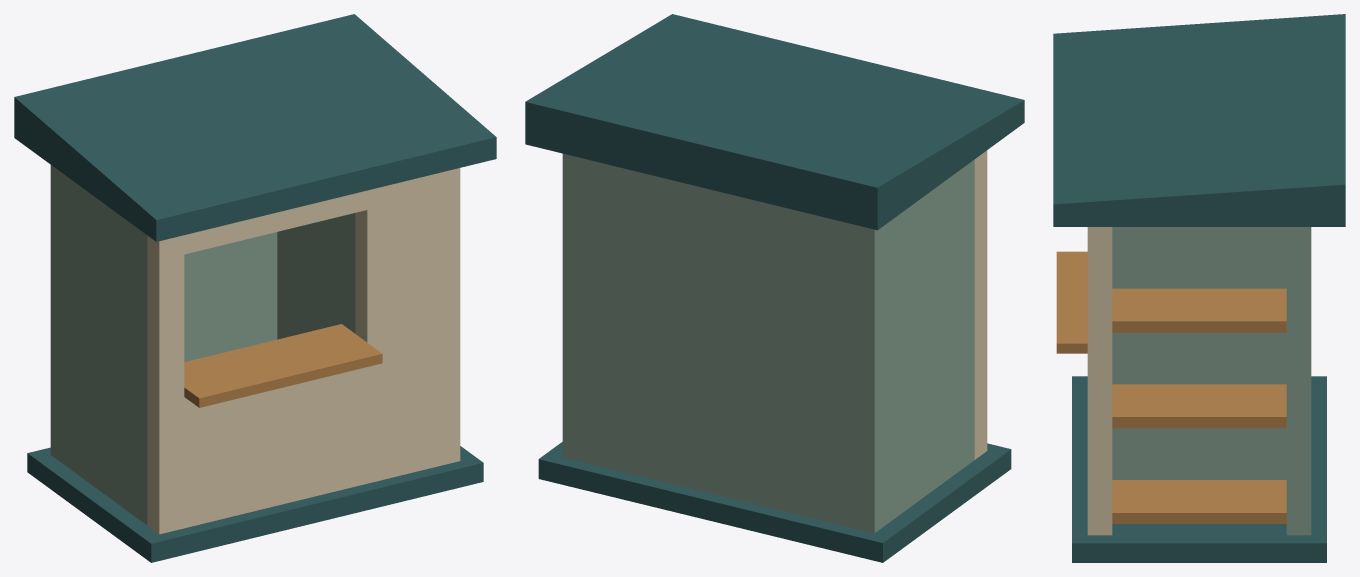
3 views of the same model, side by side, from view 1: azimuth 30°, elevation 25°; view 2: azimuth 150°, elevation 25°; view 3: azimuth 270°, elevation 25° (orthographic). The views are drawn at different scales.
Parts seen in each view (by area): view 1: ThickSingleSlopeEaveRoof, ThickOffsetServiceWindowFrame, FullLeftWall, RackFrontCheek, FullRearWall, WholeKioskPlinth, WholeServiceHandoverCounter, ThickOperatorRackPartition; view 2: FullRearWall, ThickSingleSlopeEaveRoof, FullLeftWall, WholeKioskPlinth, ThickOffsetServiceWindowFrame; view 3: ThickSingleSlopeEaveRoof, ThickOperatorRackPartition, WholeKioskPlinth, FullRearWall, RackFrontCheek, RackShelf_2, RackShelf_3, RackShelf_1, WholeServiceHandoverCounter.
Part boxes in pixels (left/top/right/bottom): ThickSingleSlopeEaveRoof: left=14, top=14, right=496, bottom=241; ThickOffsetServiceWindowFrame: left=147, top=184, right=394, bottom=534; FullLeftWall: left=62, top=173, right=147, bottom=524; RackFrontCheek: left=395, top=168, right=460, bottom=476; FullRearWall: left=50, top=165, right=277, bottom=463; WholeKioskPlinth: left=27, top=446, right=483, bottom=562; WholeServiceHandoverCounter: left=184, top=324, right=382, bottom=407; ThickOperatorRackPartition: left=277, top=213, right=355, bottom=339; FullRearWall: left=562, top=153, right=886, bottom=533; ThickSingleSlopeEaveRoof: left=525, top=14, right=1024, bottom=230; FullLeftWall: left=887, top=159, right=974, bottom=523; WholeKioskPlinth: left=538, top=442, right=1011, bottom=562; ThickOffsetServiceWindowFrame: left=974, top=150, right=987, bottom=459; ThickSingleSlopeEaveRoof: left=1053, top=14, right=1345, bottom=226; ThickOperatorRackPartition: left=1112, top=227, right=1286, bottom=479; WholeKioskPlinth: left=1072, top=376, right=1326, bottom=562; FullRearWall: left=1286, top=227, right=1311, bottom=535; RackFrontCheek: left=1087, top=227, right=1112, bottom=535; RackShelf_2: left=1112, top=384, right=1286, bottom=428; RackShelf_3: left=1112, top=288, right=1286, bottom=332; RackShelf_1: left=1112, top=480, right=1286, bottom=523; WholeServiceHandoverCounter: left=1056, top=251, right=1087, bottom=353.
Size of the model in its own units: 2.6 by 2.7 by 1.88.
